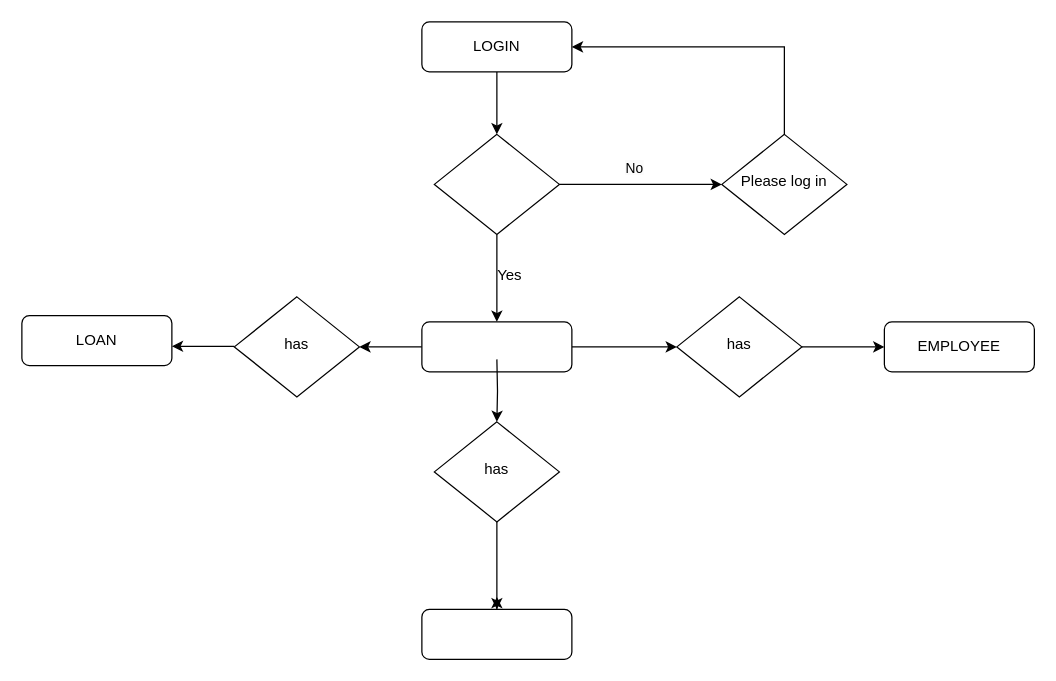
This 1056x681 diagram has some shape labels left out. The shapes that lost their labels are listed below. From the top down, each one's centre as x and y in pixels, then its label:
point 496,183: is she or he logged in?
point 496,346: DASHBOARD
point 496,633: CLIENTS
